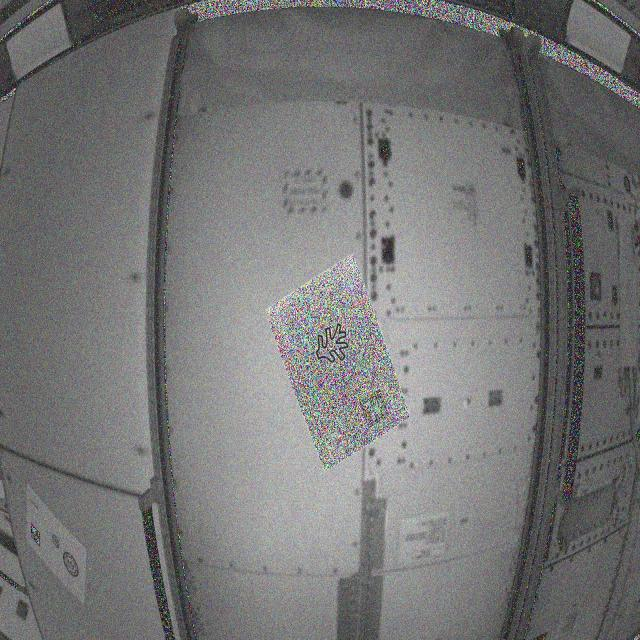coral: (313, 319, 353, 370)
